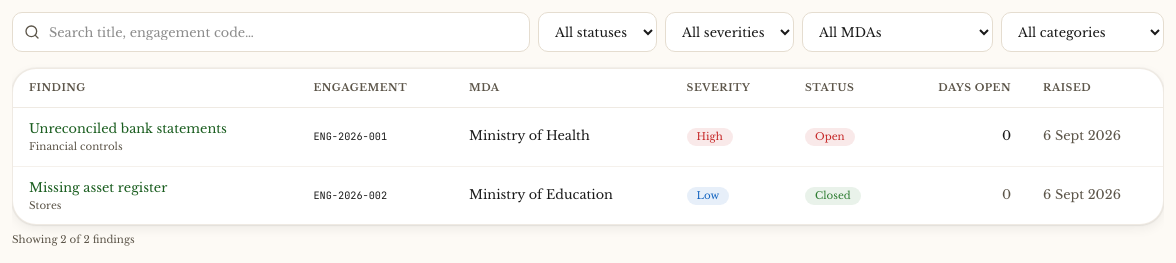
FindingsTable › filters by severity
This screenshot has width=1176, height=263.
Select "high" in the dropdown named "Filter by severity": (730, 32) [665, 12, 794, 52]
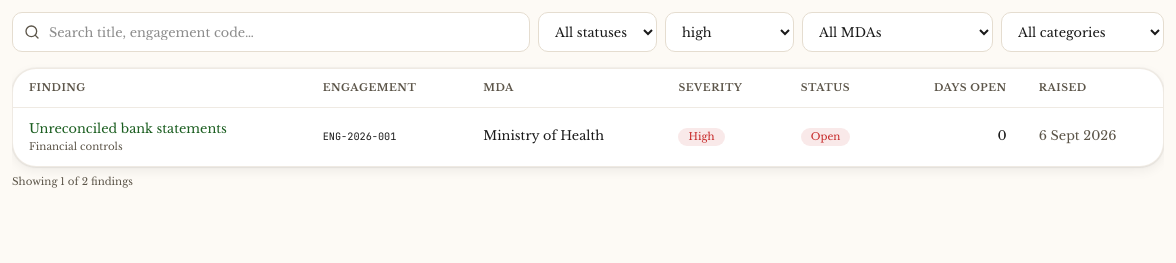
Expected: the link "Unreconciled bank statements" is shown, [29, 121, 227, 136]
Result: the link "Missing asset register" is gone
Result: the text "Showing 1 of 2 findings" is shown at [12, 175, 133, 188]
